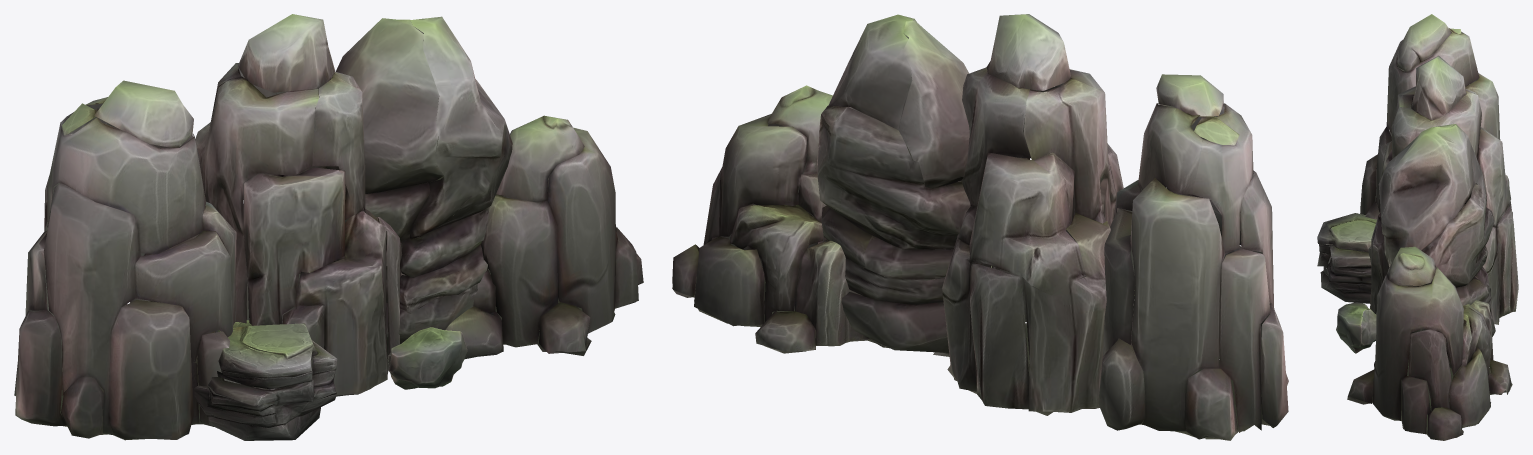
File: cliff-a.glb
3 views of the same model, side by side, from view 1: azimuth 30°, elevation 25°; view 2: azimuth 150°, elevation 25°; view 3: azimuth 270°, elevation 25° (orthographic). The views are drawn at different scales.
Visible parts, largest first — view 1: cliff-a; view 2: cliff-a; view 3: cliff-a.
Part boxes in pixels (x1,y1,x2,y2): cliff-a: [14, 14, 643, 440]; cliff-a: [672, 14, 1288, 440]; cliff-a: [1317, 14, 1518, 440].
Size of the model in its own units: 15.16 by 8.41 by 5.84.
Materials: 3 (3 with a texture image).
